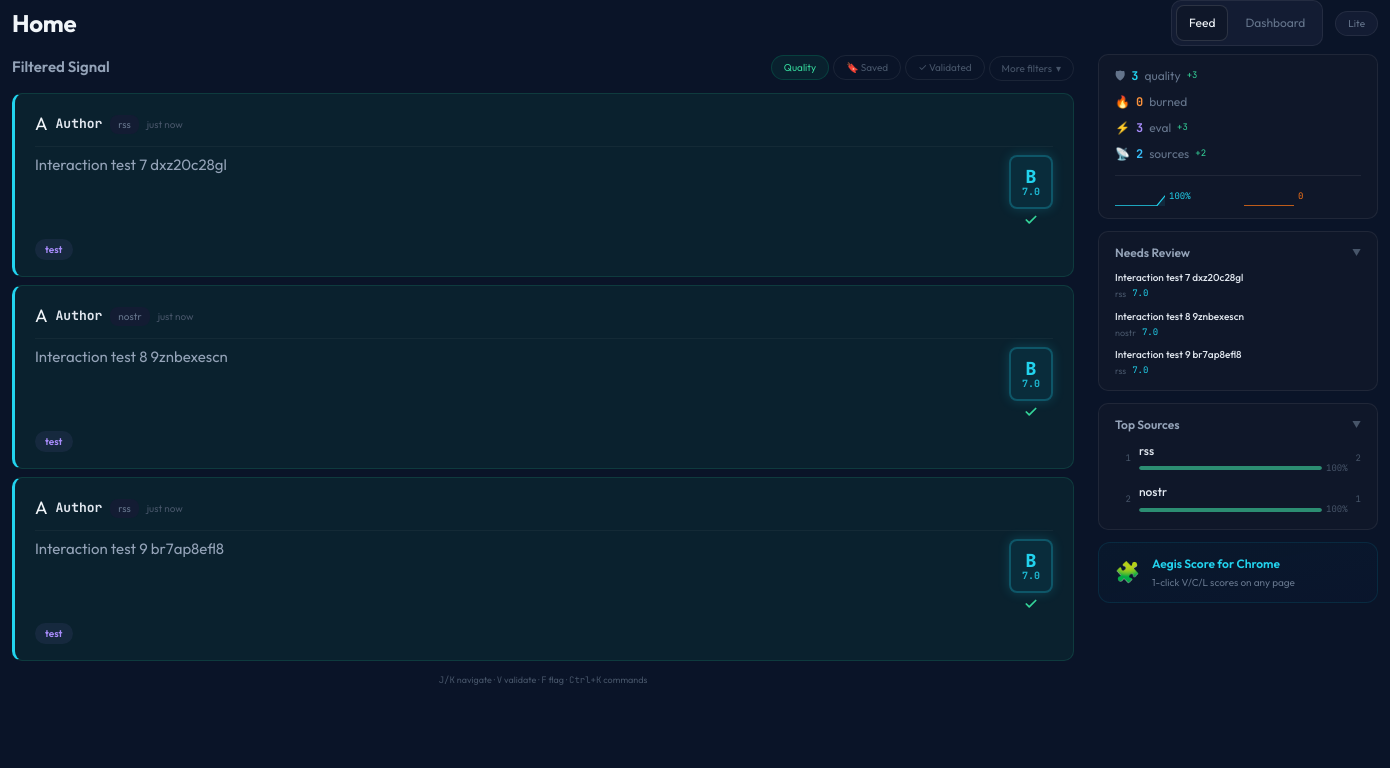
it: DashboardTab — More Filters dropdown › shows available sources from content
Click the button with test id "aegis-filter-more" at (1031, 68), box [989, 56, 1074, 81]
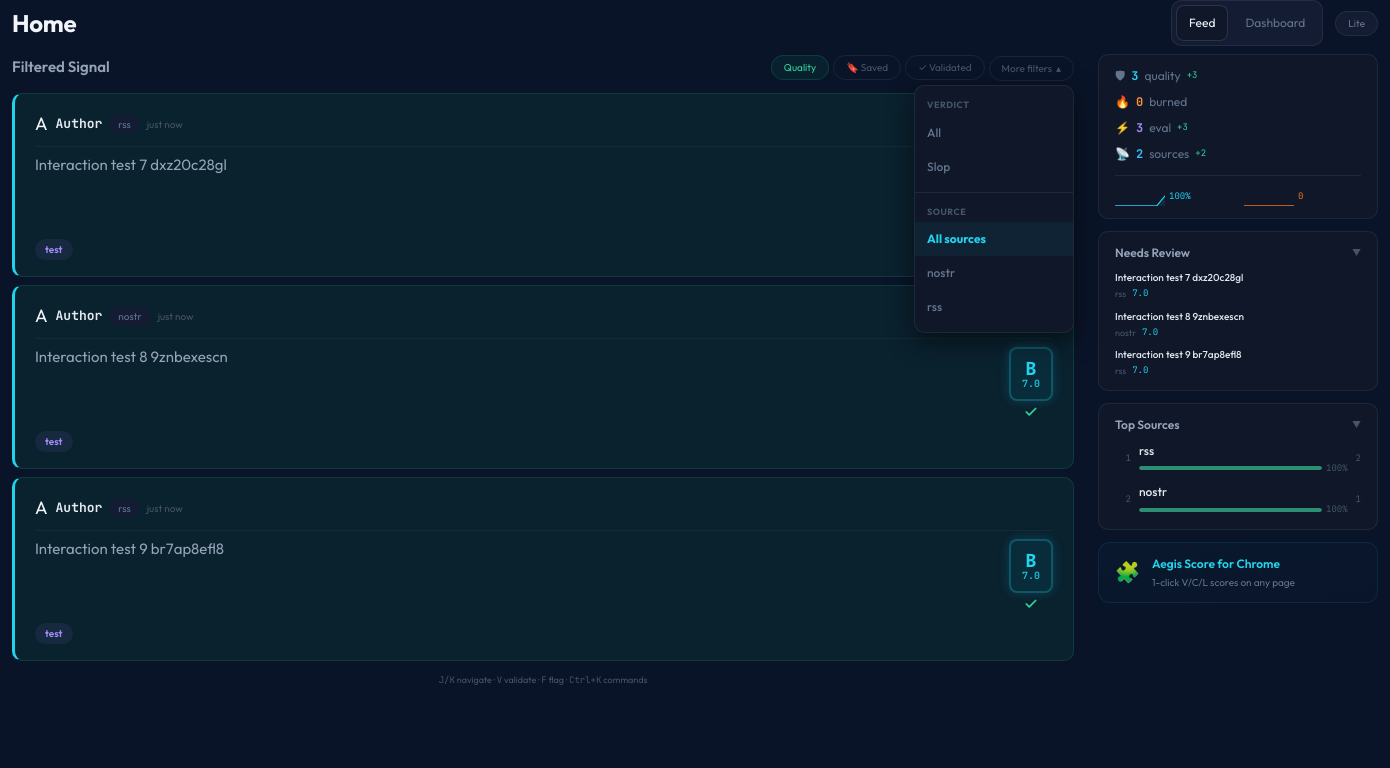
Now the menu with test id "aegis-filter-more-panel" shows "rss", box [915, 290, 1073, 324]
Now the menu with test id "aegis-filter-more-panel" shows "nostr", box [915, 256, 1073, 290]
Now the menu with test id "aegis-filter-more-panel" shows "All sources", box [915, 222, 1073, 256]
